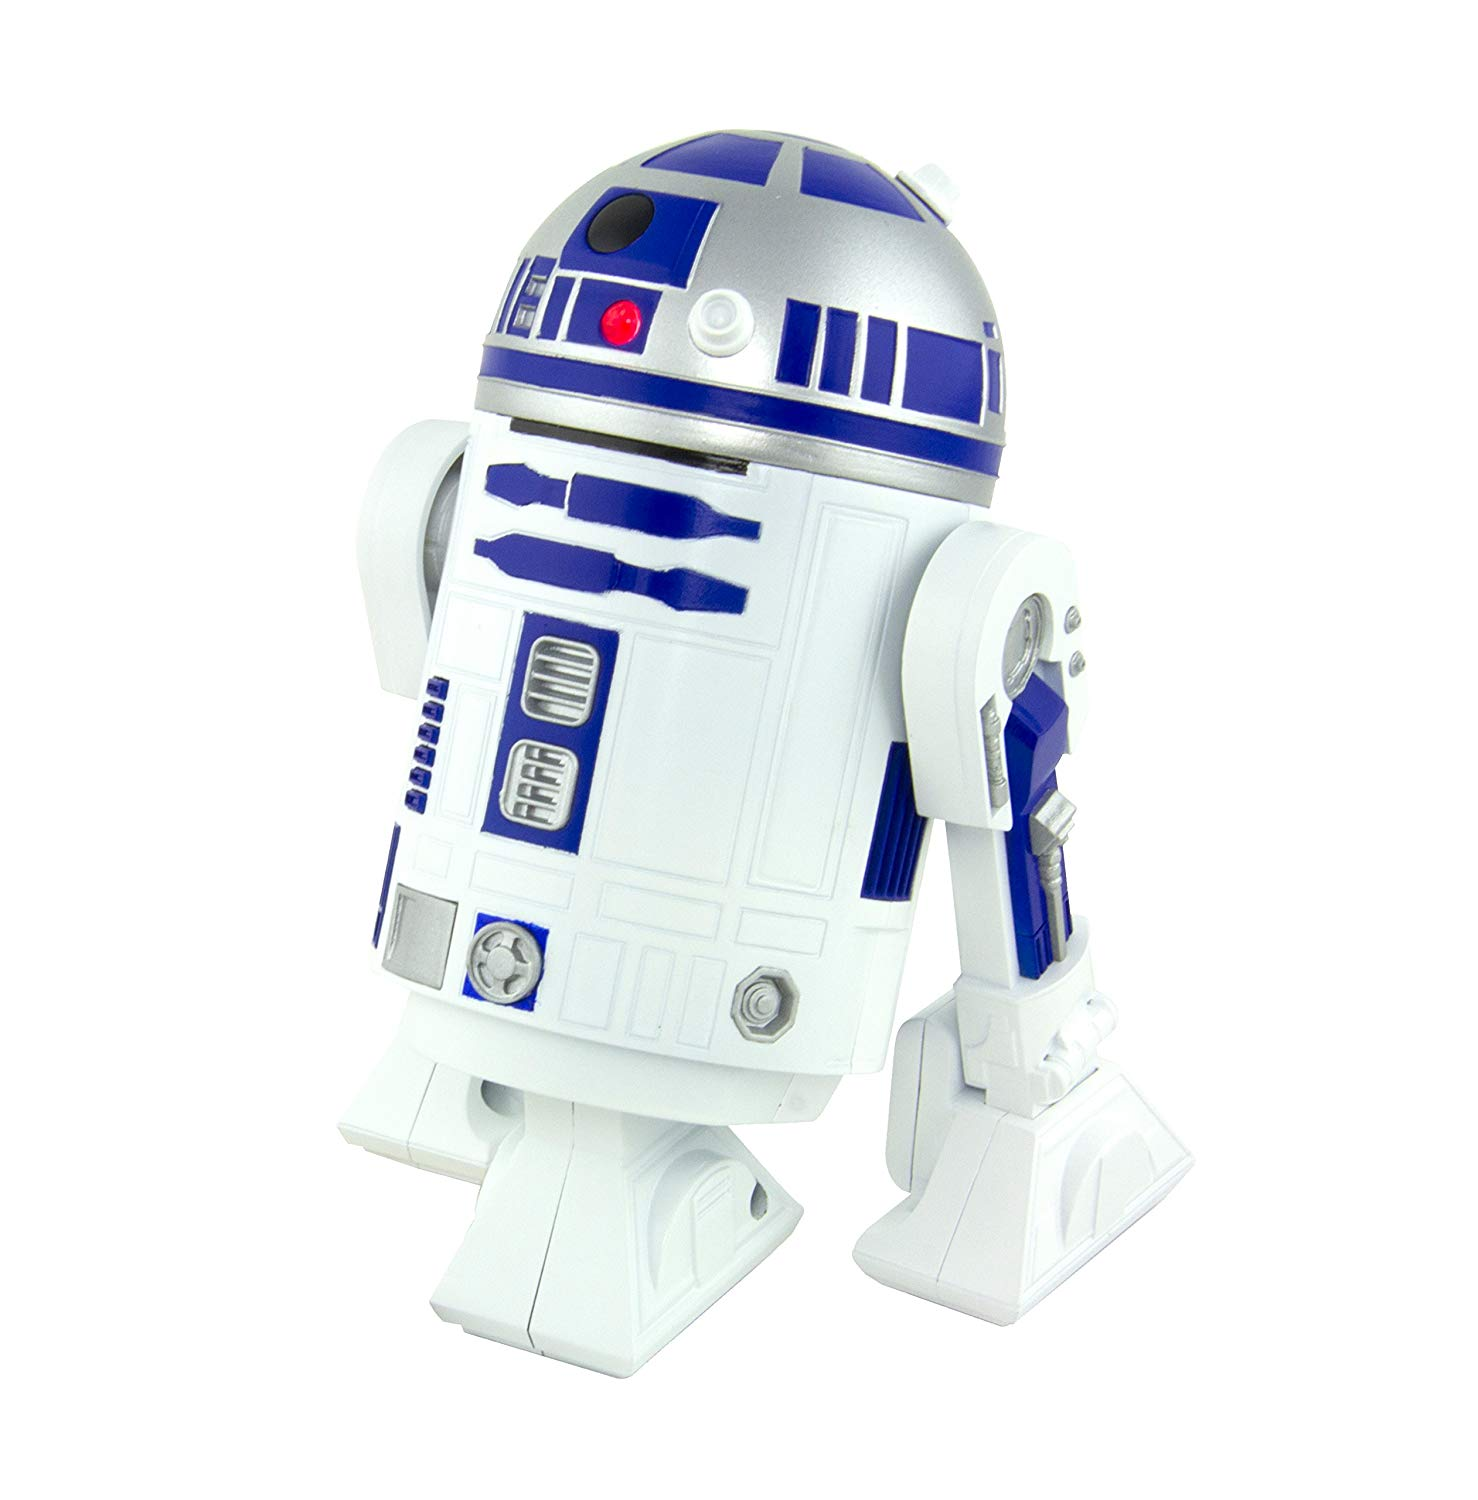r2d2: (334, 127, 1199, 1371)
